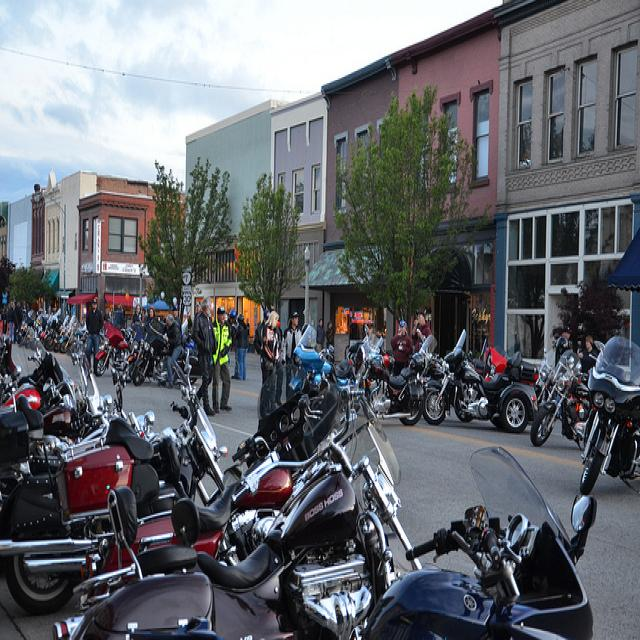motor: (4, 308, 553, 551), (38, 384, 414, 640), (0, 345, 229, 620), (355, 442, 596, 631), (574, 316, 640, 498), (424, 346, 536, 434), (218, 469, 308, 564), (353, 325, 426, 425), (0, 337, 73, 418), (529, 350, 589, 448), (132, 320, 192, 388), (43, 352, 88, 416), (44, 395, 94, 439), (417, 333, 445, 383)
